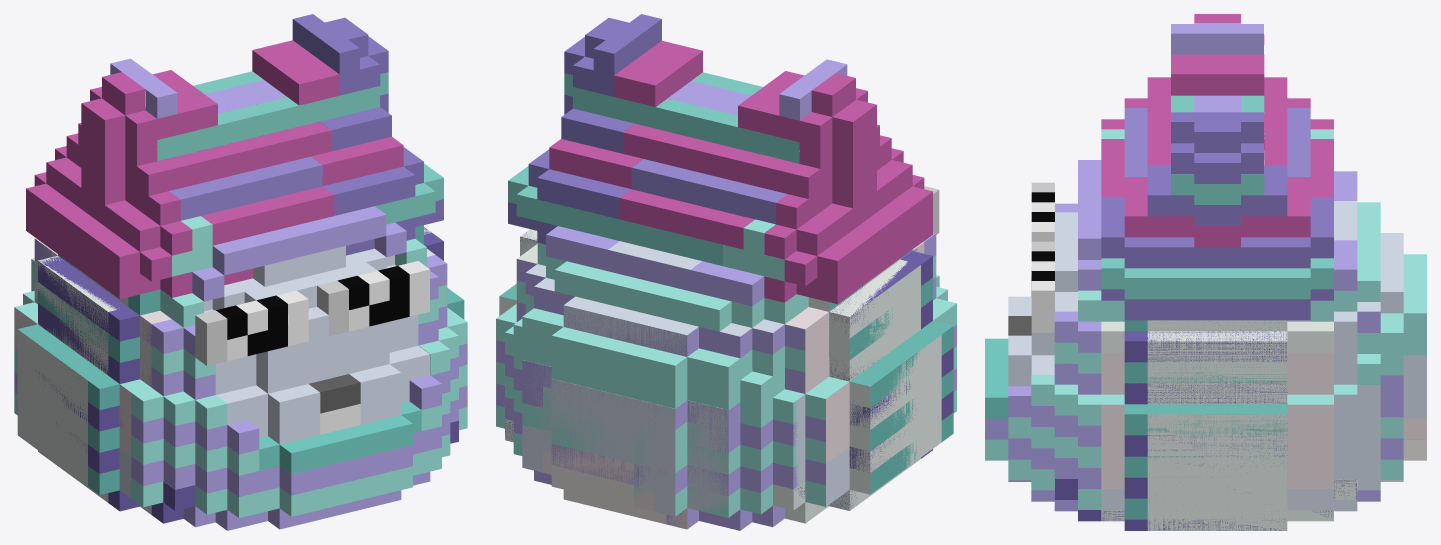
3 views of the same model, side by side, from view 1: azimuth 30°, elevation 25°; view 2: azimuth 150°, elevation 25°; view 3: azimuth 270°, elevation 25° (orthographic). The views are drawn at different scales.
Visible parts, largest first — view 1: hat_GLTF, fit_GLTF, form_GLTF_1, fit_GLTF_3, form_GLTF, hat_GLTF_3, fit_GLTF_1, hat_GLTF_2, fit_GLTF_2, fit_GLTF_4, hat_GLTF_4, eyes_GLTF_2 (+7 smaller); view 2: hat_GLTF, fit_GLTF_3, fit_GLTF, form_GLTF_1, form_GLTF, hat_GLTF_2, hat_GLTF_3, fit_GLTF_2, form_GLTF_2, hat_GLTF_4, fit_GLTF_1, hat_GLTF_1 (+2 smaller); view 3: form_GLTF, hat_GLTF_3, fit_GLTF_3, hat_GLTF, form_GLTF_1, fit_GLTF, hat_GLTF_2, form_GLTF_2, fit_GLTF_1, fit_GLTF_2, hat_GLTF_1, hat_GLTF_4 (+5 smaller).
Part boxes in pixels (x1,y1,x2,y2): hat_GLTF: (26, 40, 403, 299); fit_GLTF: (14, 206, 467, 530); form_GLTF_1: (14, 246, 429, 498); fit_GLTF_3: (14, 239, 467, 518); form_GLTF: (17, 227, 435, 514); hat_GLTF_3: (263, 14, 443, 255); fit_GLTF_1: (35, 227, 458, 523); hat_GLTF_2: (157, 71, 443, 224); fit_GLTF_2: (18, 225, 464, 495); fit_GLTF_4: (259, 401, 421, 474); hat_GLTF_4: (157, 148, 322, 220); eyes_GLTF_2: (227, 261, 429, 361); hat_GLTF: (549, 41, 932, 304); fit_GLTF_3: (496, 242, 956, 517); fit_GLTF: (496, 226, 956, 530); form_GLTF_1: (496, 241, 849, 517); form_GLTF: (499, 229, 941, 523); hat_GLTF_2: (508, 72, 799, 265); hat_GLTF_3: (508, 14, 691, 244); fit_GLTF_2: (499, 250, 953, 494); form_GLTF_2: (496, 242, 924, 529); hat_GLTF_4: (631, 151, 799, 224); fit_GLTF_1: (505, 232, 953, 510); hat_GLTF_1: (668, 59, 847, 120); form_GLTF: (1101, 160, 1356, 530); hat_GLTF_3: (1101, 112, 1333, 320); fit_GLTF_3: (985, 202, 1426, 509); hat_GLTF: (1101, 14, 1333, 247); form_GLTF_1: (1008, 201, 1426, 511); fit_GLTF: (985, 150, 1403, 511); hat_GLTF_2: (1101, 95, 1333, 299); form_GLTF_2: (1101, 352, 1426, 488); fit_GLTF_1: (1055, 331, 1356, 530); fit_GLTF_2: (1124, 320, 1287, 519); hat_GLTF_1: (1171, 24, 1263, 112); hat_GLTF_4: (1124, 108, 1310, 176).
Bounding box in the file's own units: 18 × 18 × 19.
